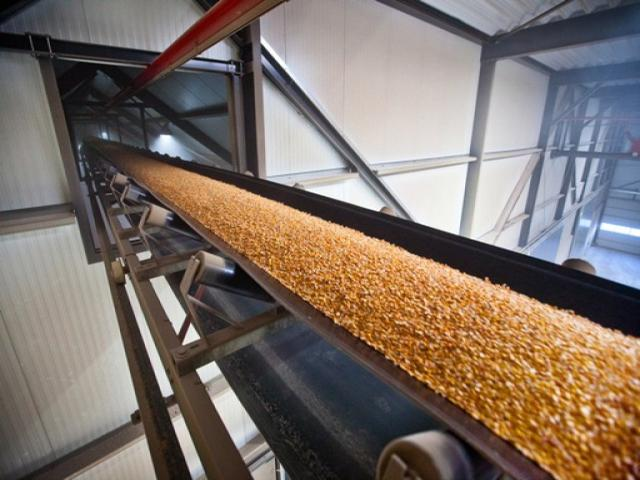conveyor: (79, 134, 639, 479)
